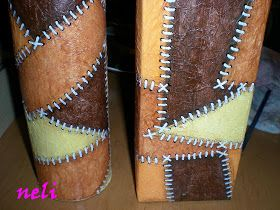cuero: (8, 1, 268, 202)
